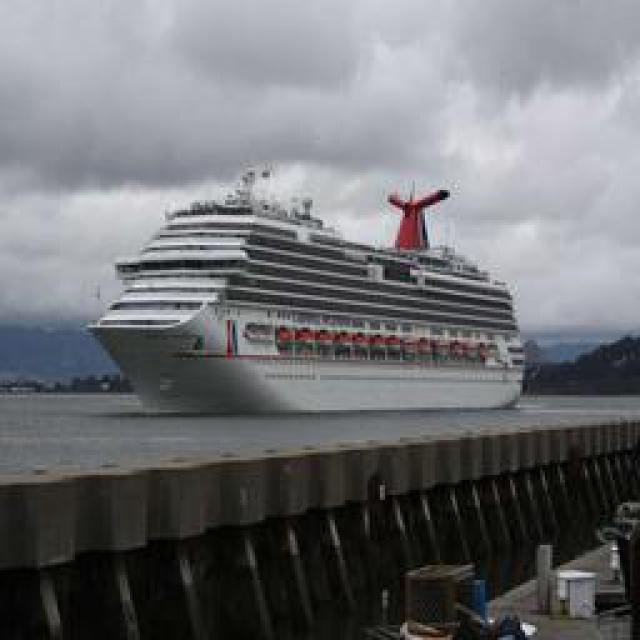Ship: (94, 166, 539, 429)
